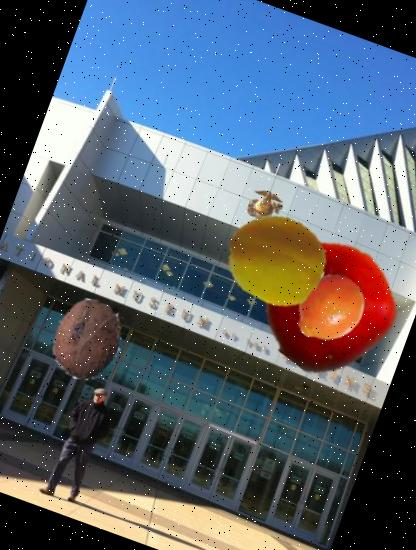Cocos: (35, 287, 140, 392)
Nectarine: (243, 222, 413, 392)
Peach: (212, 196, 338, 322)
Tangelo: (282, 262, 376, 356)
